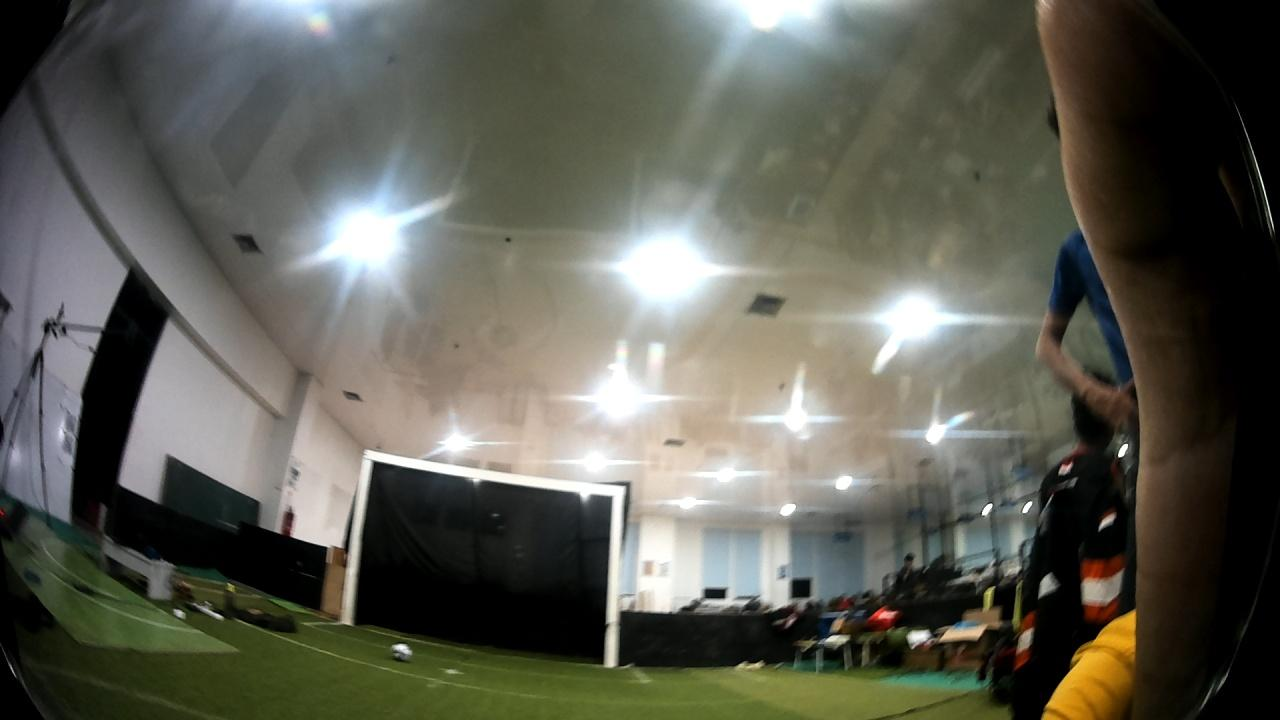ball: (389, 639, 415, 662)
